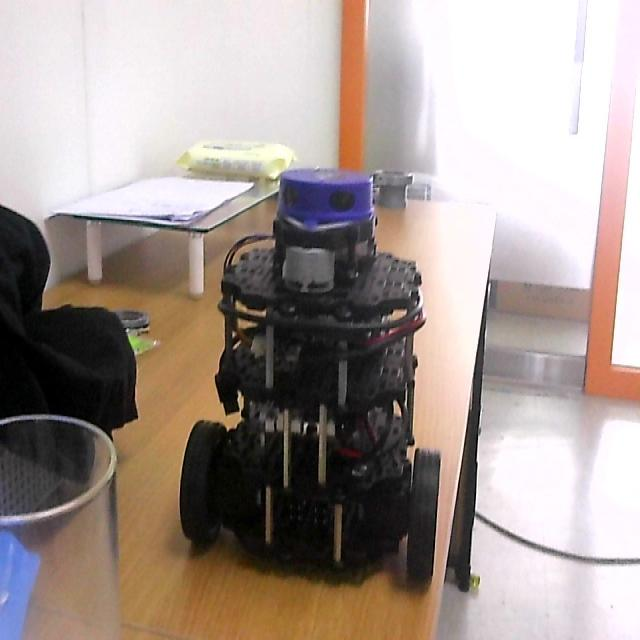turtle: (178, 166, 444, 594)
